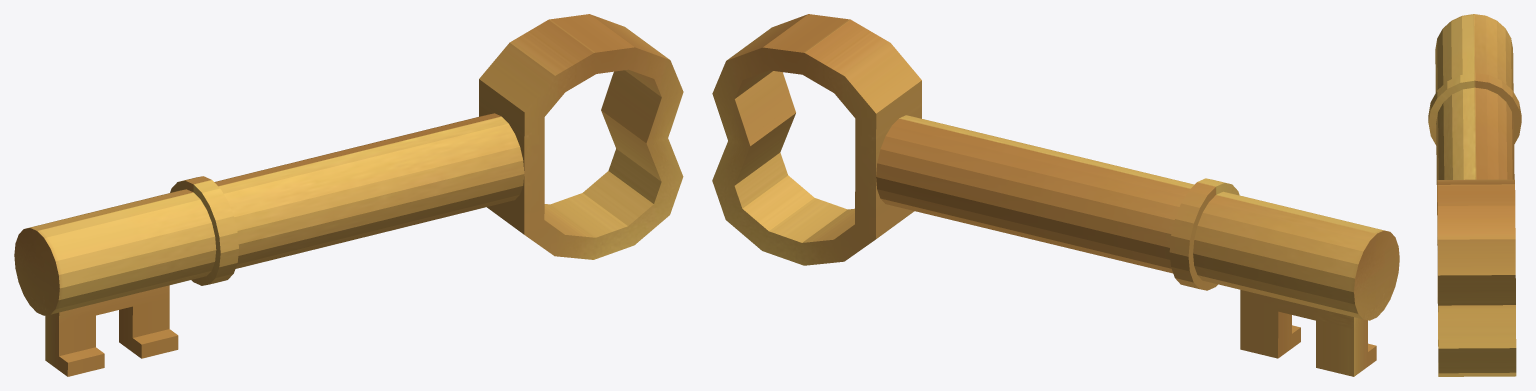
The model's file is golden_key_-_psxps1_style_low_poly.glb.
3 renders of one model, left to right at view 1: azimuth 30°, elevation 25°; view 2: azimuth 150°, elevation 25°; view 3: azimuth 270°, elevation 25°, orthographic. The views are drawn at different scales.
Visible parts, largest first — view 1: Key_0; view 2: Key_0; view 3: Key_0.
Boxes of the visible parts, x1,y1,x2,y2 form: Key_0: (14,14,683,376); Key_0: (712,14,1399,376); Key_0: (1428,14,1521,376).
Bounding box in the file's own units: 0.16 × 0.0508 × 0.024.
Materials: 1 (1 with a texture image).
